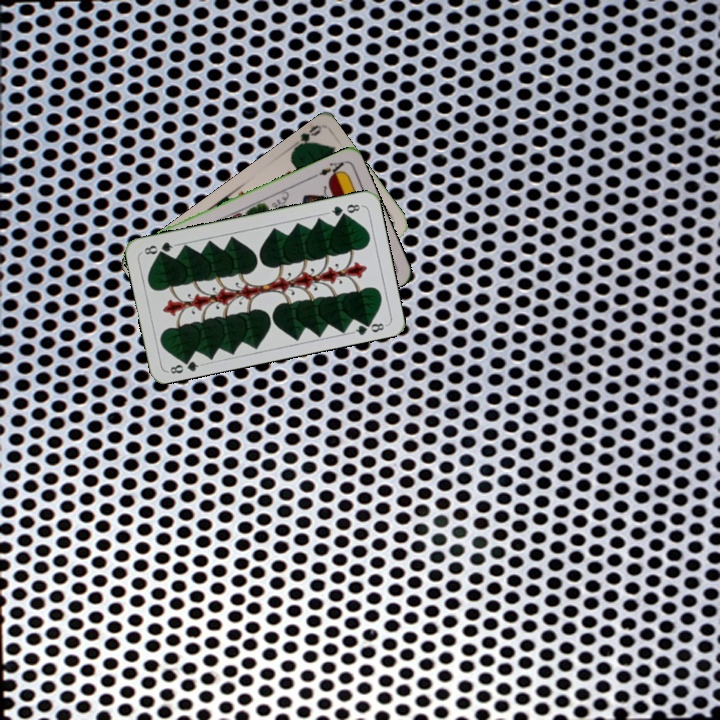EA: (309, 158, 347, 180)
G8: (164, 353, 205, 376), (324, 200, 364, 219)
GO: (289, 121, 323, 154)
